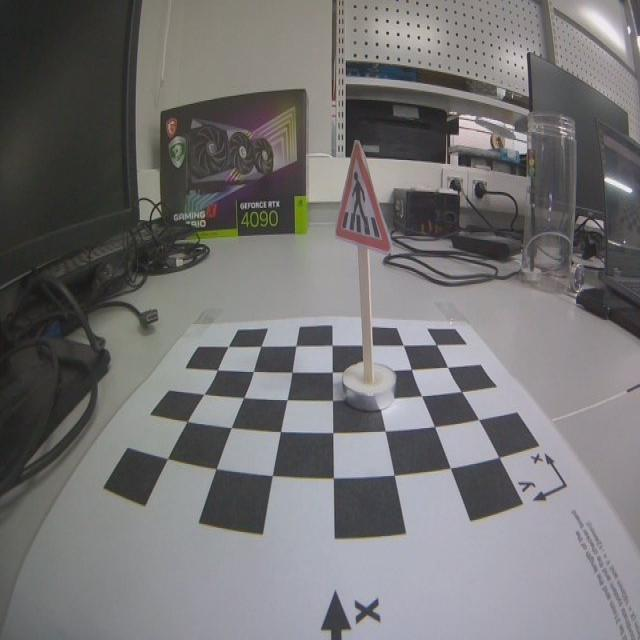Rambu Penyebrangan: (335, 142, 392, 250)
